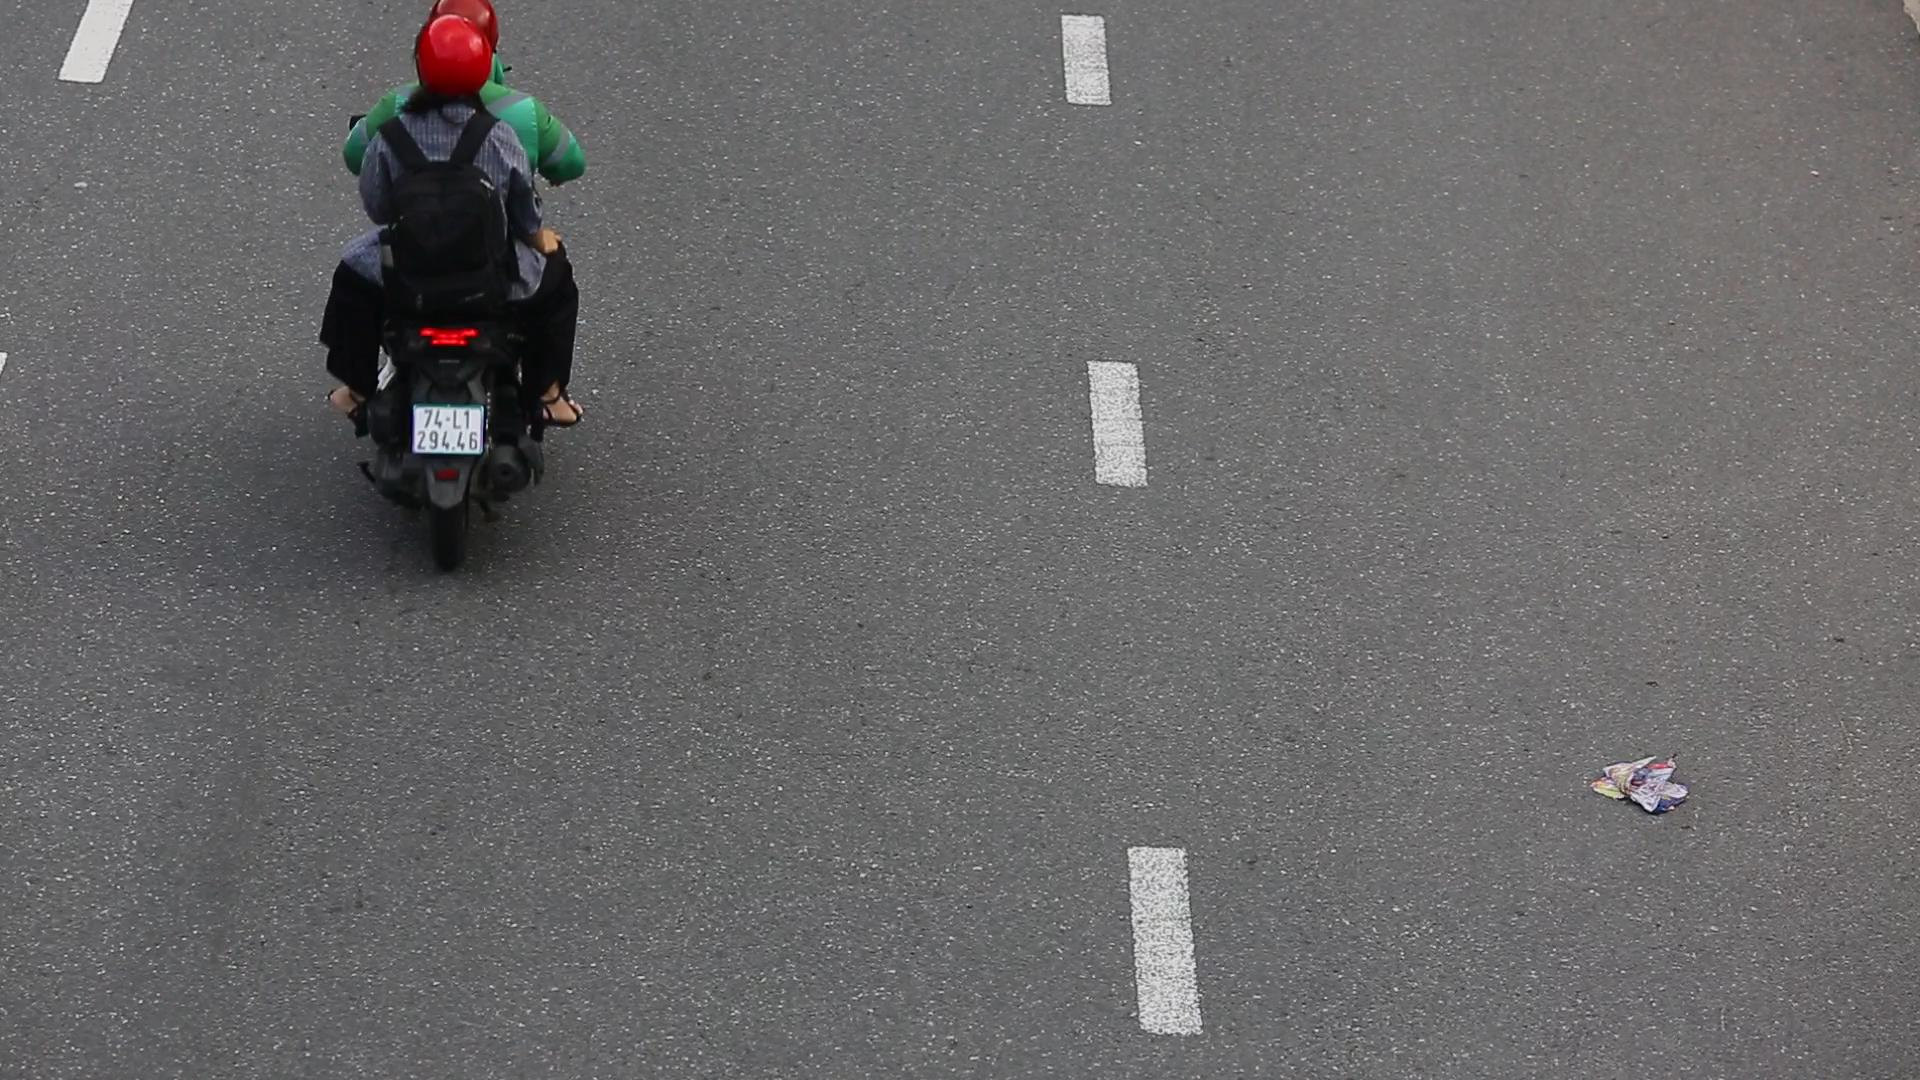motobike: (320, 0, 597, 574)
